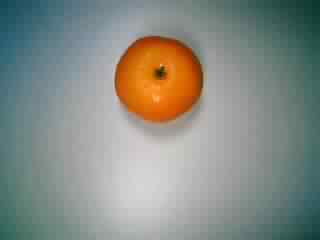orange: (110, 33, 205, 125)
